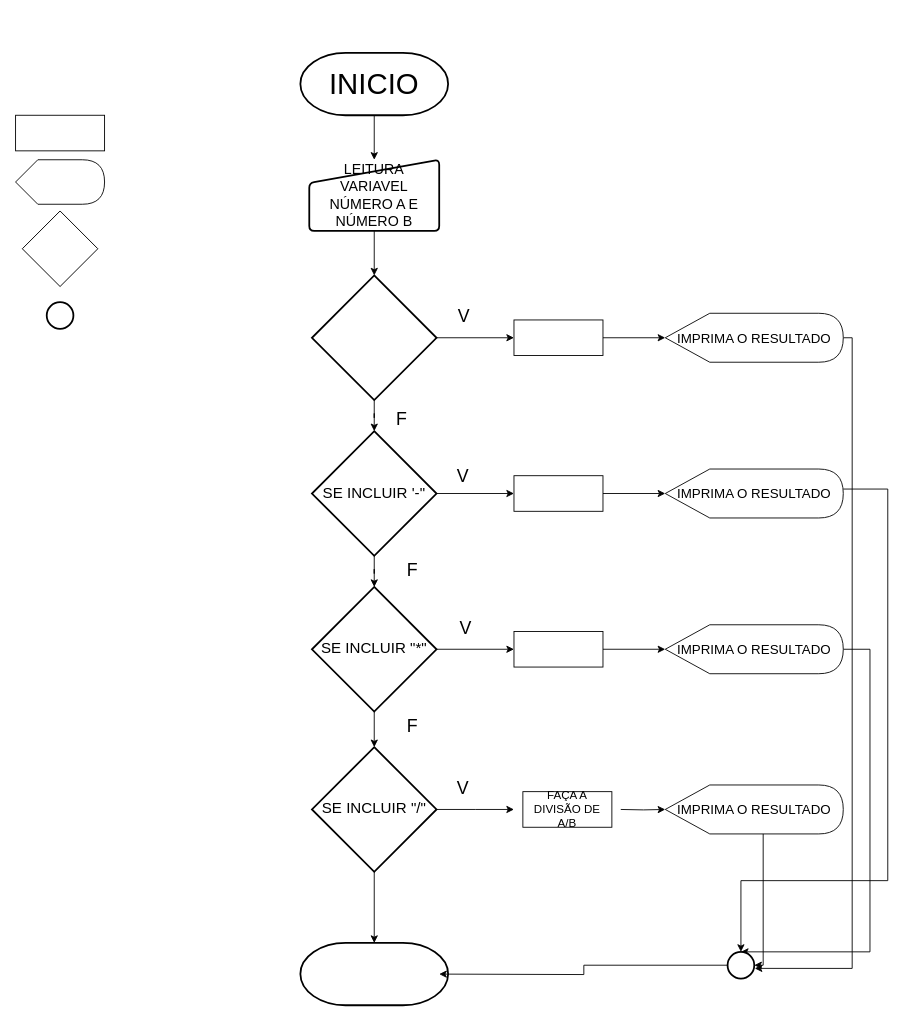
Some shapes in this 910 by 1021 pixel diagram are drawn without their labels. Each missing label, with the box of its shape:
FAÇA A MULTIPLICAÇÃO DE A*B: (513, 631, 603, 667)
FAÇA A SOMA DE A+B: (513, 319, 603, 356)
FAÇA A SUBTRAÇÃO DE A-B: (513, 475, 603, 511)
FINAL: (299, 942, 449, 1006)
SE INCLUIR '+': (311, 274, 437, 400)
